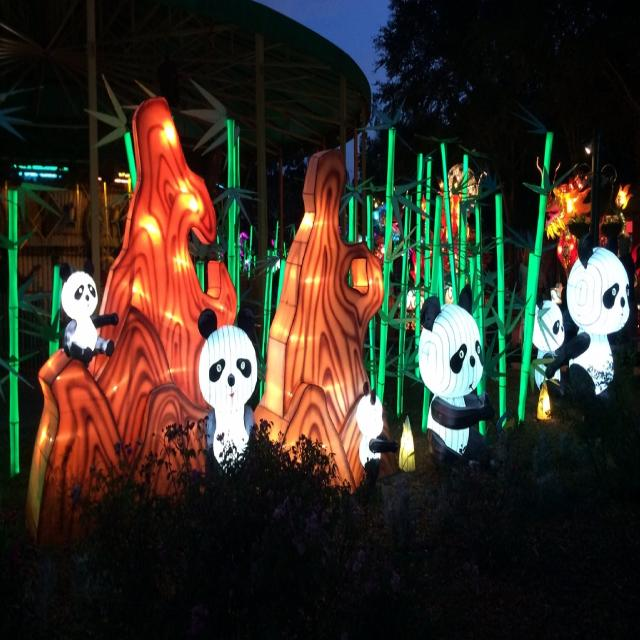panda: (547, 233, 630, 440), (420, 288, 490, 477), (197, 307, 259, 498), (56, 257, 118, 358), (353, 380, 401, 499), (528, 283, 566, 390)
